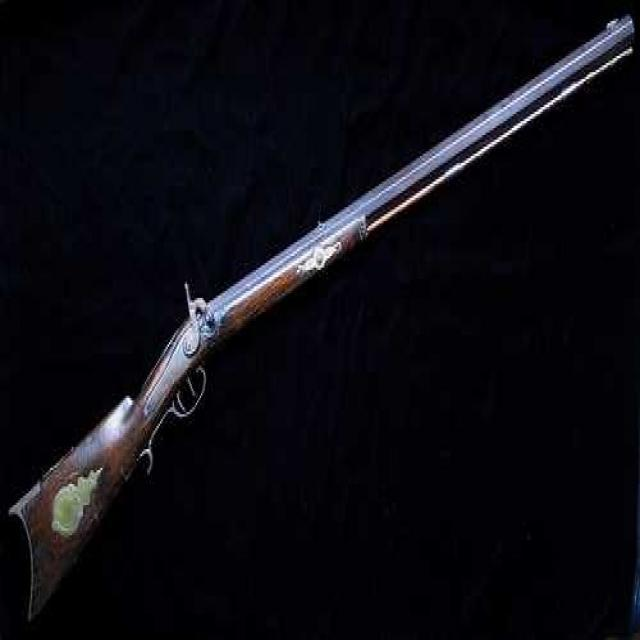weapon: (0, 2, 635, 636)
